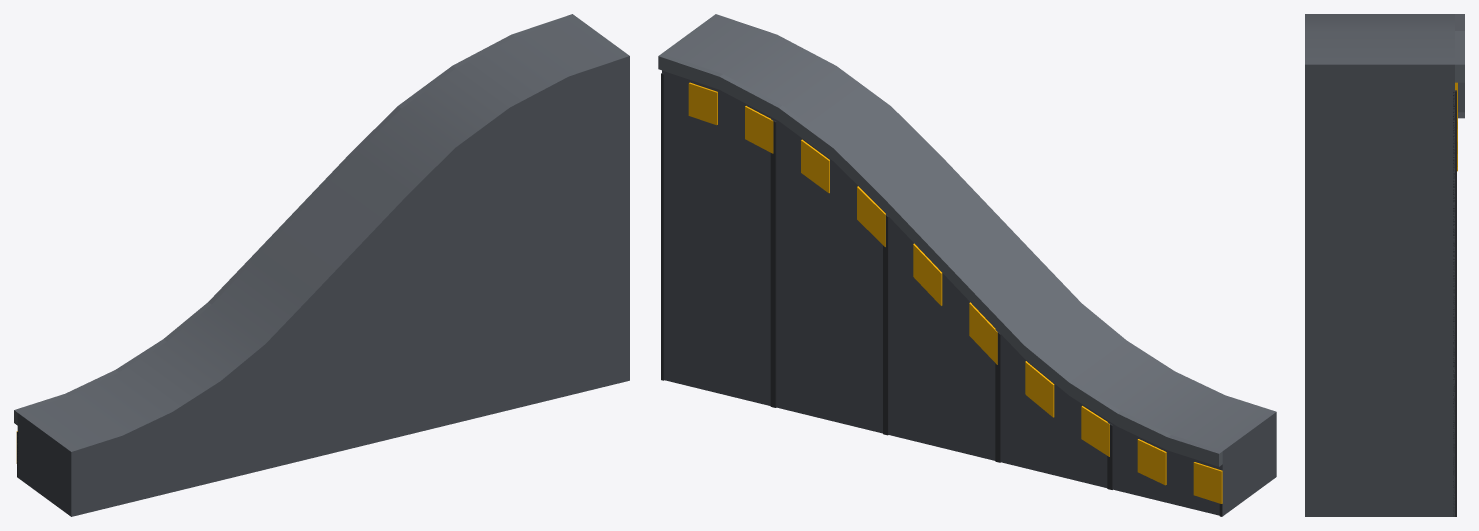
3 views of the same model, side by side, from view 1: azimuth 30°, elevation 25°; view 2: azimuth 150°, elevation 25°; view 3: azimuth 270°, elevation 25° (orthographic). The views are drawn at different scales.
Visible parts, largest first — view 1: c2w; view 2: c2w; view 3: c2w.
Part boxes in pixels (left/top/right/bottom): c2w: left=14, top=14, right=629, bottom=516; c2w: left=658, top=14, right=1276, bottom=516; c2w: left=1305, top=14, right=1464, bottom=516.
Size of the model in its own units: 9 by 5 by 1.6.
